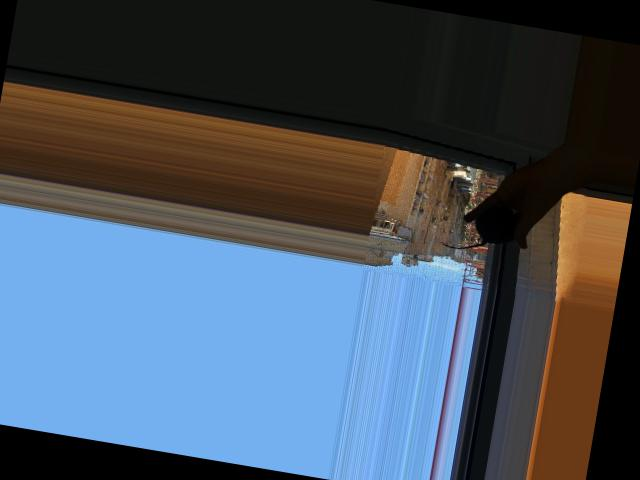beet: (439, 197, 518, 258)
